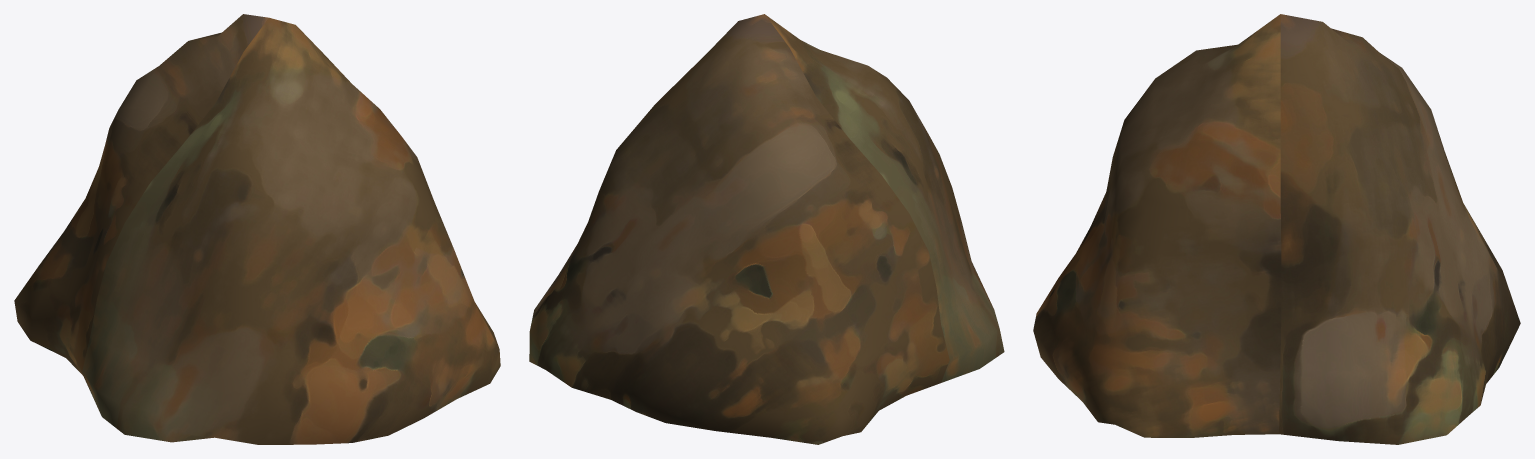
File: Basura_1.FBX
3 views of the same model, side by side, from view 1: azimuth 30°, elevation 25°; view 2: azimuth 150°, elevation 25°; view 3: azimuth 270°, elevation 25° (orthographic). The views are drawn at different scales.
Parts seen in each view (by area): view 1: basura_1; view 2: basura_1; view 3: basura_1.
Boxes of the visible parts, x1,y1,x2,y2 form: basura_1: (14,14,500,444); basura_1: (529,14,1004,444); basura_1: (1033,14,1520,444).
Bounding box in the file's own units: 121 × 102 × 132.
